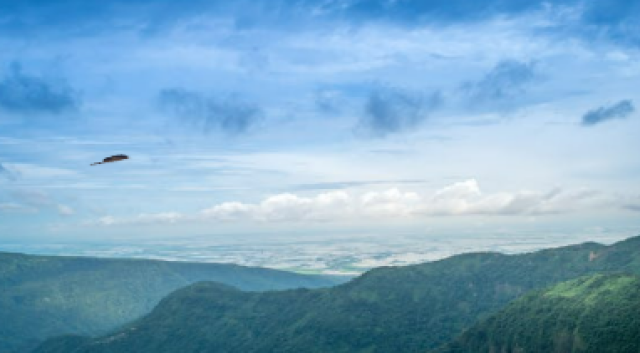military drone: (88, 153, 129, 167)
